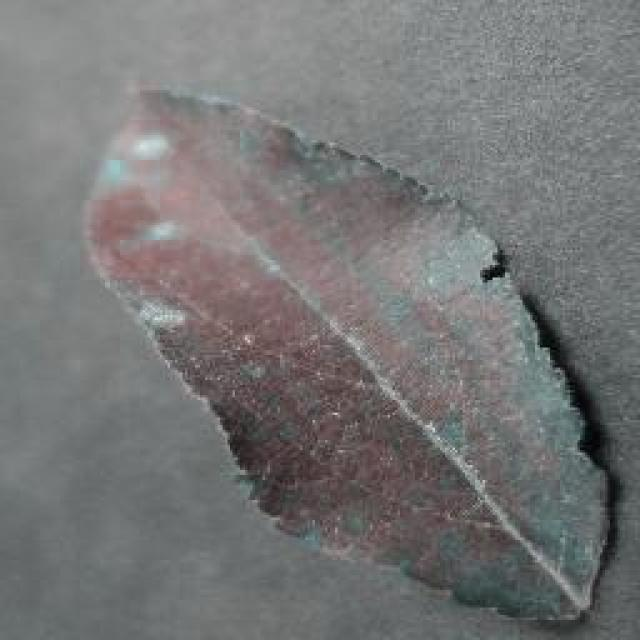apple healthy: (77, 80, 615, 625)
